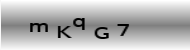7: (114, 21, 131, 37)
G: (94, 26, 110, 39)
K: (55, 24, 74, 40)
m: (27, 21, 49, 33)
q: (72, 17, 86, 32)
